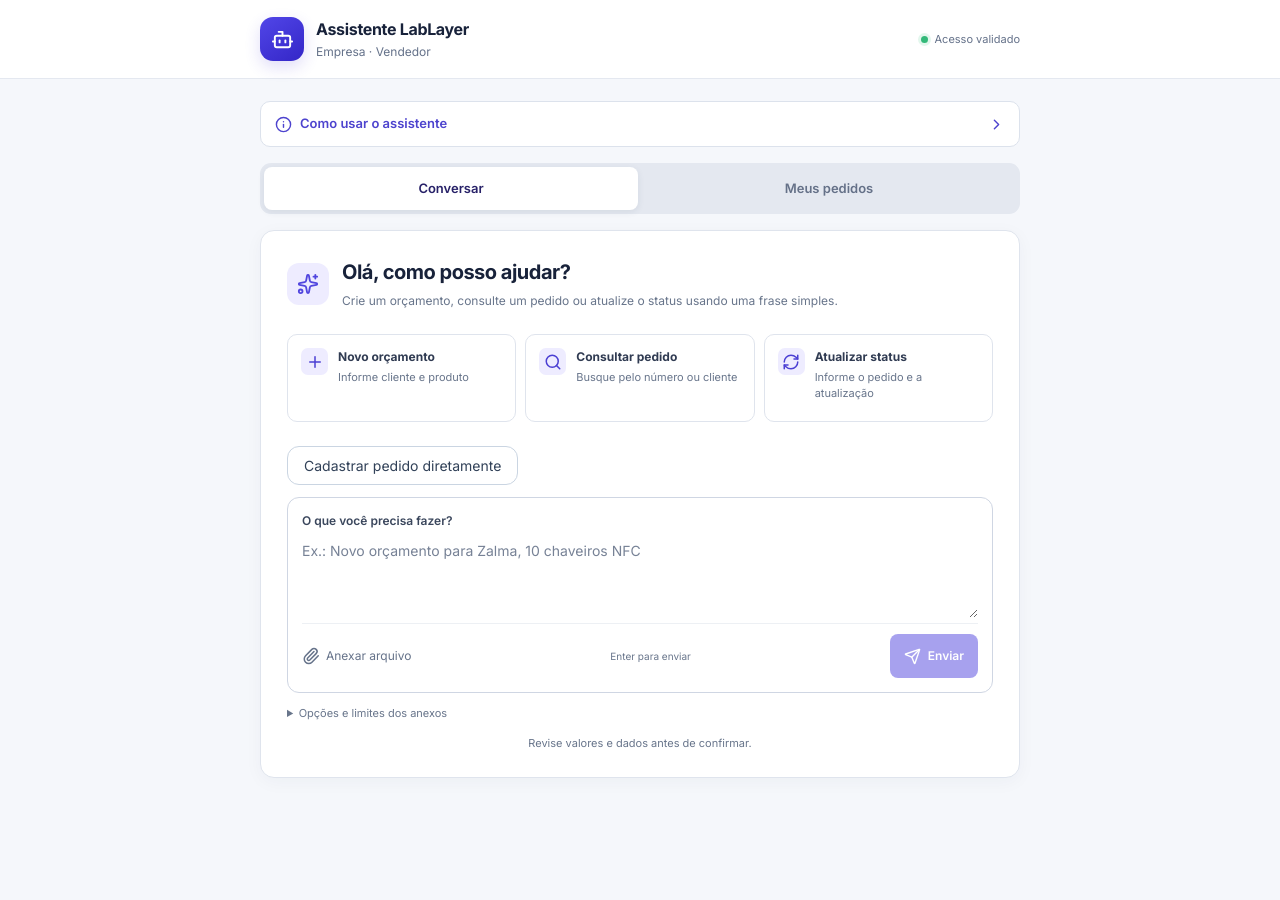
it: falha de rede reenvia o mesmo comando com o mesmo identificador
Later steps or results of the test are not shown.
Type "ORC 11 pago pode produzir" into the text box named "Criar, consultar ou atualizar um pedido".
click(640, 574); type("ORC 11 pago pode produzir")  # box [302,530,978,618]
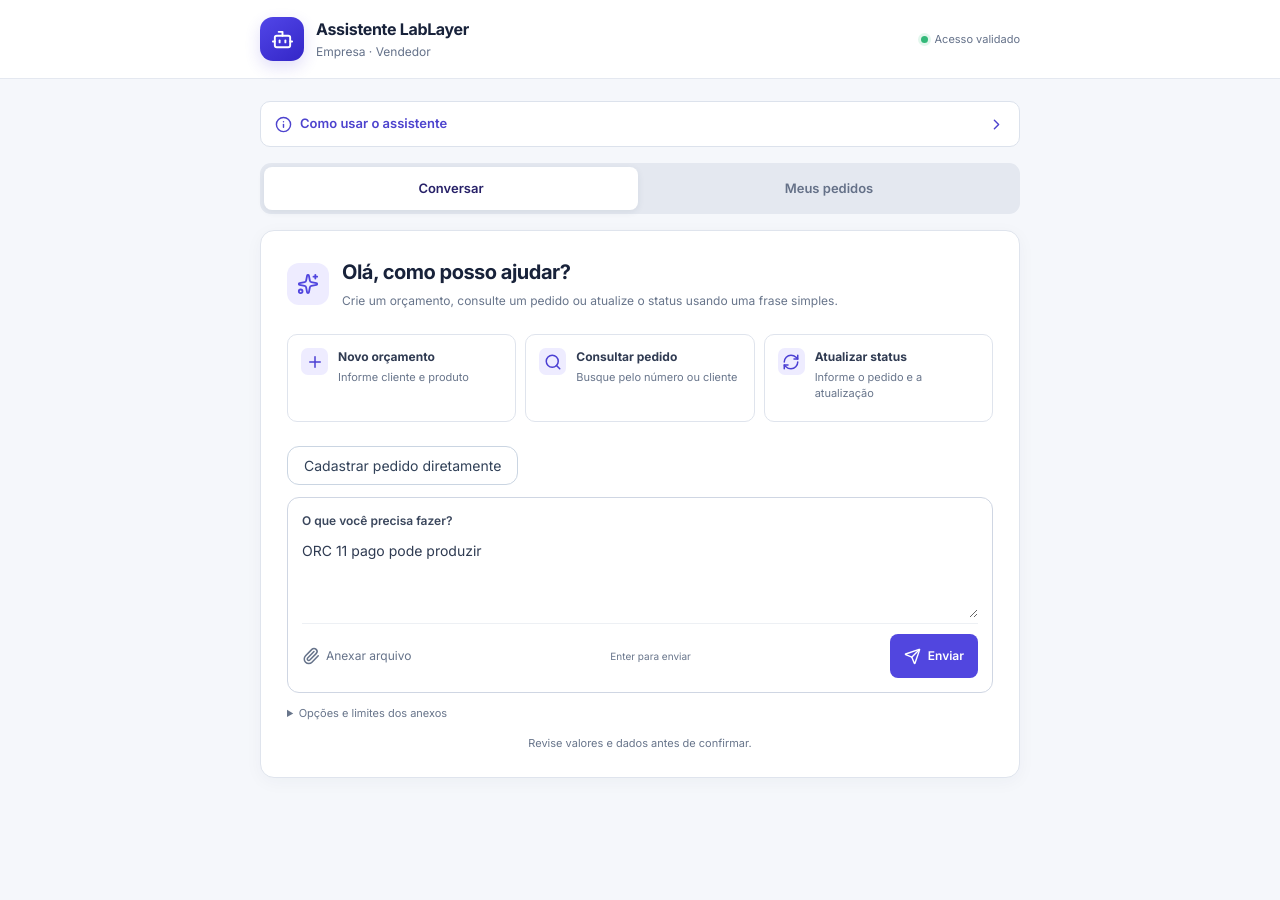
Click the button with aria-label "Enviar mensagem".
click(934, 656)  # box [890,634,978,678]
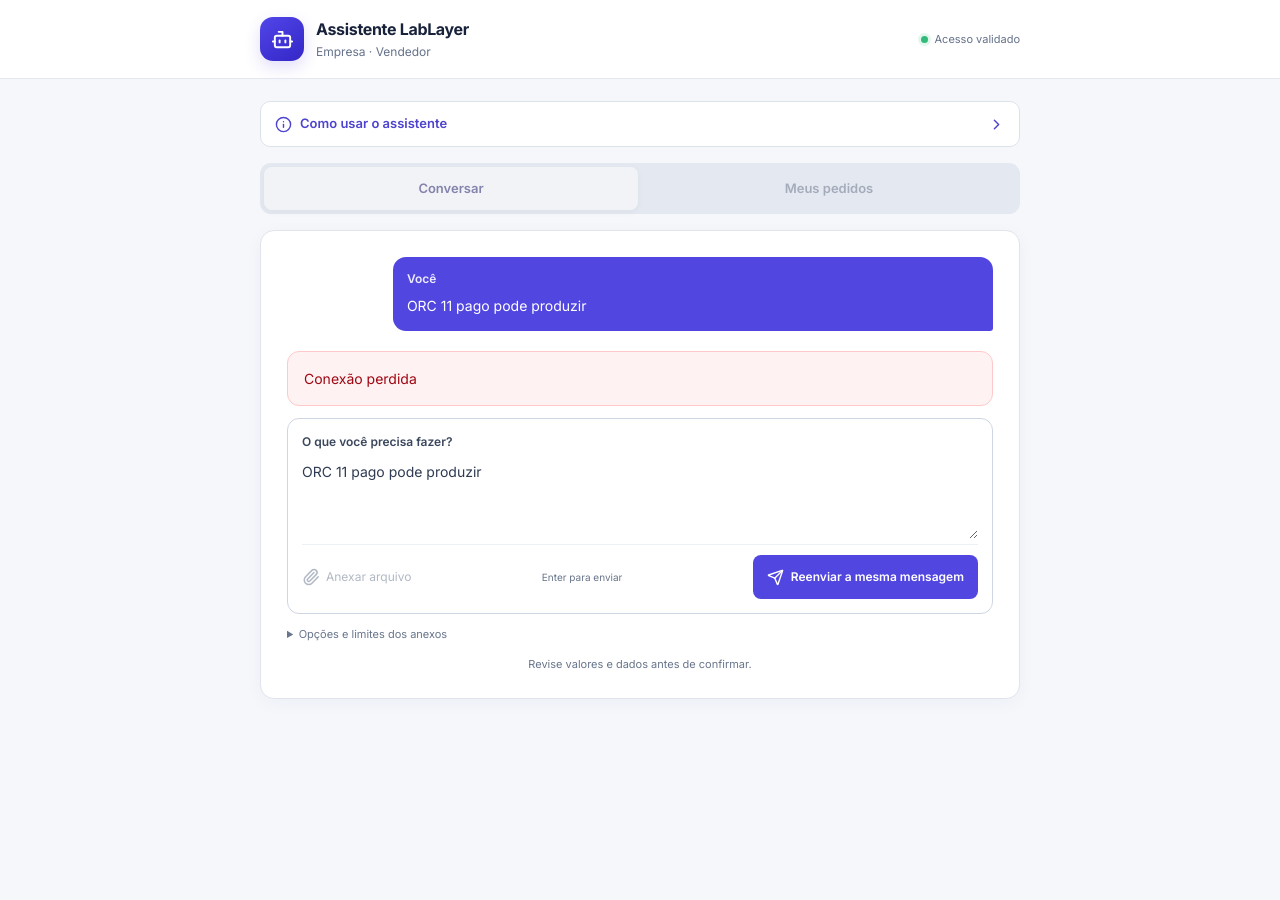
Expected: the text "Conexão perdida" is shown, [287,351,993,406]
